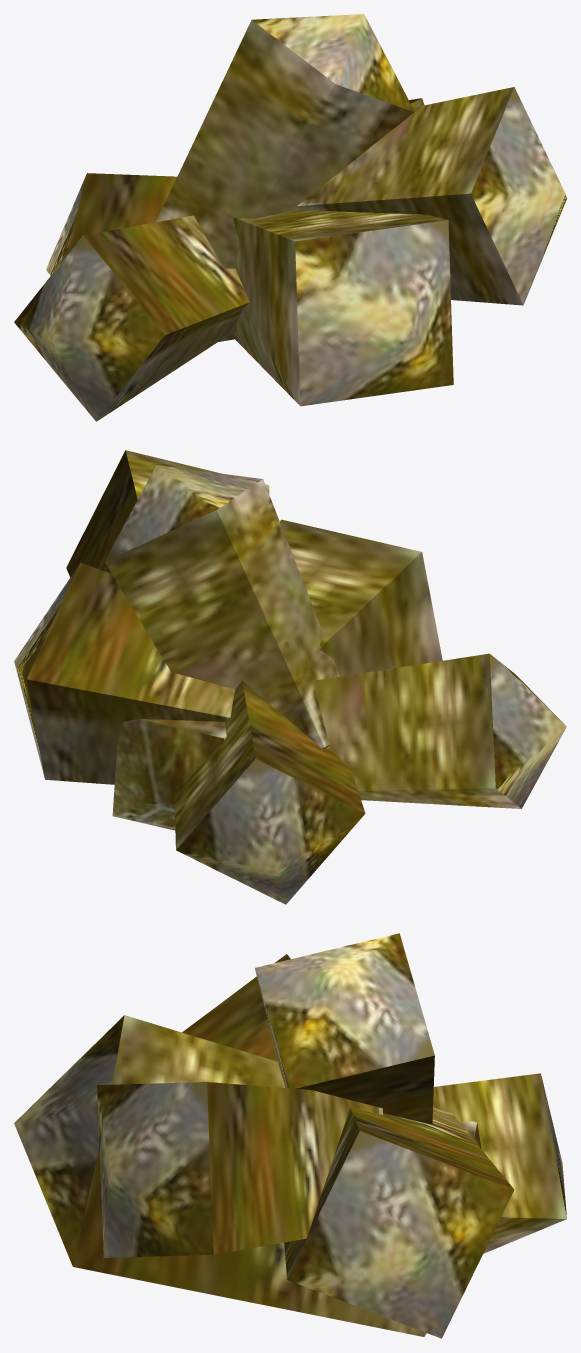
Rendered from dujvshi_3.fbx.
3 renders of one model, top to bottom at view 1: azimuth 30°, elevation 25°; view 2: azimuth 150°, elevation 25°; view 3: azimuth 270°, elevation 25°, orthographic. The views are drawn at different scales.
Parts seen in each view (by area): view 1: polySurface1; view 2: polySurface1; view 3: polySurface1.
Boxes of the visible parts, box(x1,y1,x2,y2) form: polySurface1: box(14, 14, 566, 421); polySurface1: box(14, 450, 566, 904); polySurface1: box(14, 933, 566, 1338).
Size of the model in its own units: 59.53 by 38.75 by 50.59.
